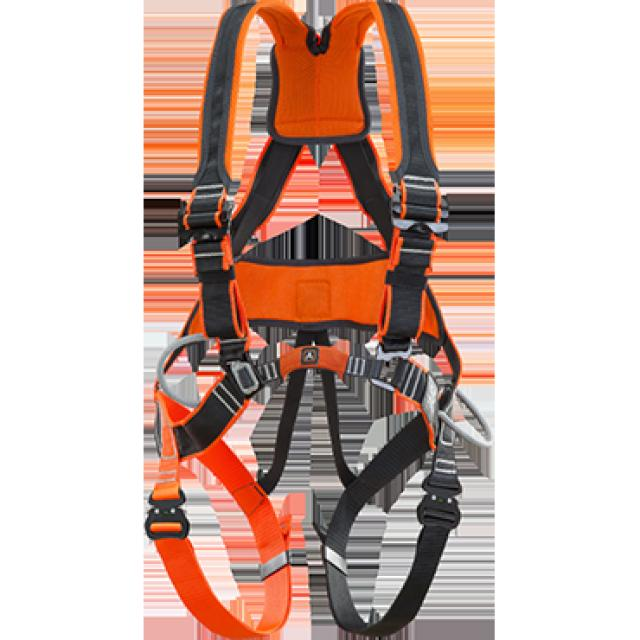Harness: (144, 1, 495, 640)
